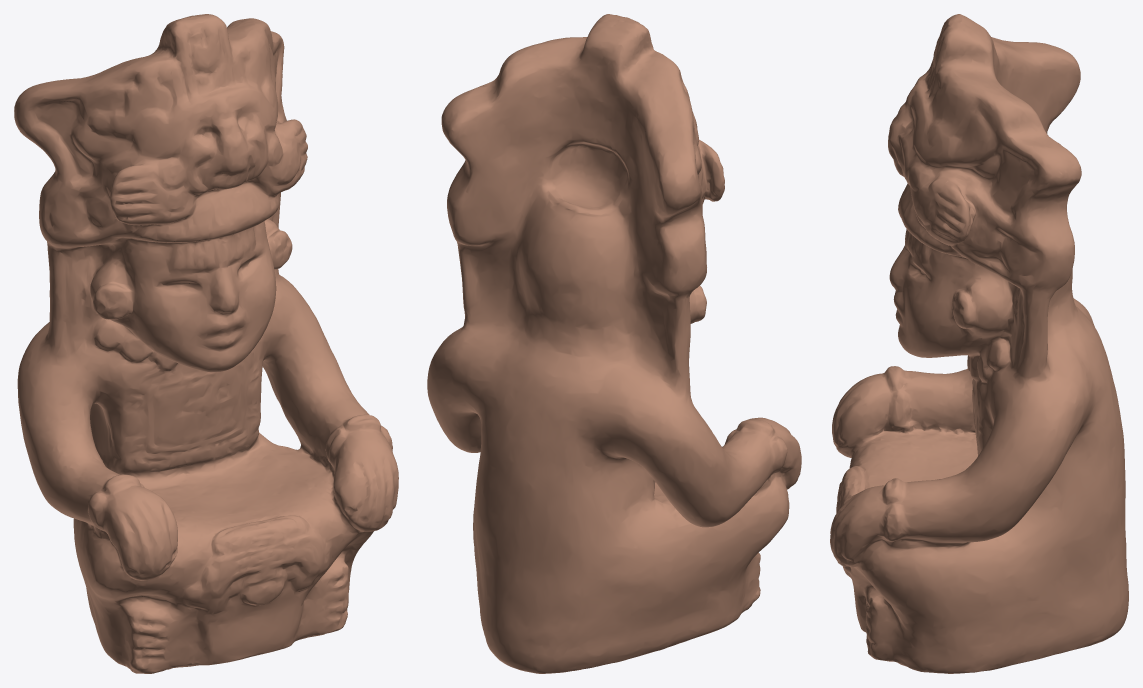
The model's file is maya_statue_70.fbx.
The picture shows the model from 3 angles, left to right: view 1: azimuth 30°, elevation 25°; view 2: azimuth 150°, elevation 25°; view 3: azimuth 270°, elevation 25°; orthographic projection. The views are drawn at different scales.
Visible parts, largest first — view 1: maya_statue; view 2: maya_statue; view 3: maya_statue.
Boxes of the visible parts, x1,y1,x2,y2 form: maya_statue: (14, 14, 398, 673); maya_statue: (427, 14, 801, 673); maya_statue: (830, 14, 1128, 673).
Bounding box in the file's own units: 170 × 332 × 151.
